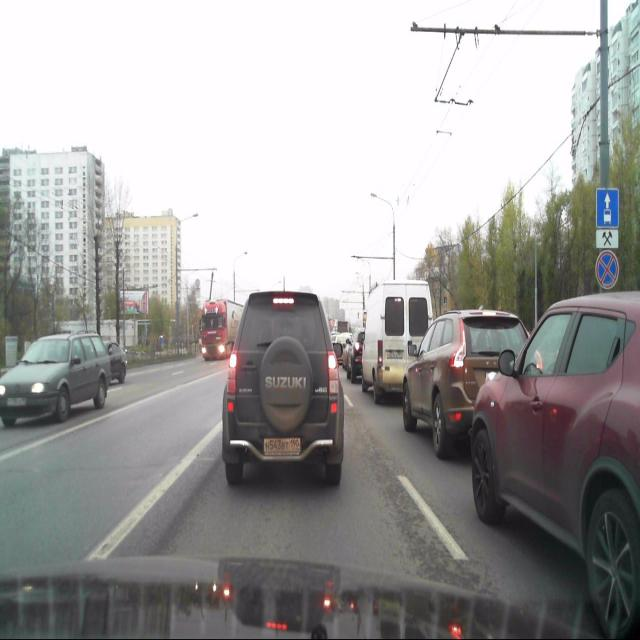road sign: (596, 188, 619, 228), (596, 230, 618, 248)
